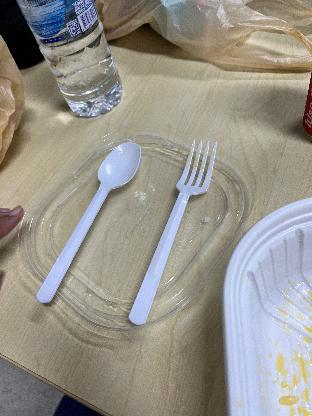Others: (31, 136, 146, 308), (124, 138, 222, 328)
Plastic Bottle: (26, 0, 125, 118)
